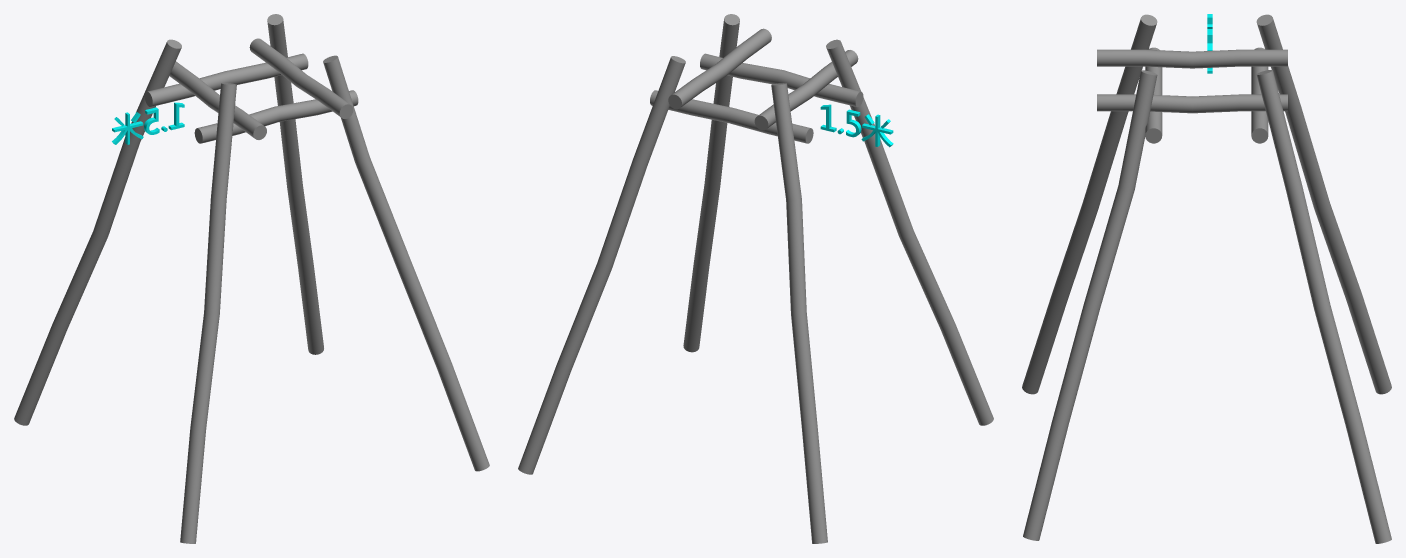
Rendered from mujiazi.FBX.
The picture shows the model from 3 angles, left to right: view 1: azimuth 30°, elevation 25°; view 2: azimuth 150°, elevation 25°; view 3: azimuth 270°, elevation 25°; orthographic projection. The views are drawn at different scales.
Parts seen in each view (by area): view 1: Cylinder786, Cylinder785, Cylinder787, Cylinder788, Cylinder784, Cylinder782, Cylinder781, Cylinder783, Text106; view 2: Cylinder787, Cylinder788, Cylinder786, Cylinder785, Cylinder781, Cylinder782, Cylinder784, Cylinder783, Text106; view 3: Cylinder788, Cylinder785, Cylinder787, Cylinder786, Cylinder783, Cylinder782, Cylinder784, Cylinder781.
Boxes of the visible parts, left/top/right/bottom form: Cylinder786: left=180, top=83, right=236, bottom=543; Cylinder785: left=323, top=55, right=489, bottom=471; Cylinder787: left=14, top=39, right=181, bottom=425; Cylinder788: left=267, top=14, right=323, bottom=354; Cylinder784: left=144, top=53, right=308, bottom=106; Cylinder782: left=249, top=38, right=353, bottom=118; Cylinder781: left=194, top=90, right=358, bottom=143; Cylinder783: left=169, top=61, right=266, bottom=139; Text106: left=112, top=102, right=184, bottom=144; Cylinder787: left=771, top=83, right=827, bottom=543; Cylinder788: left=518, top=56, right=685, bottom=474; Cylinder786: left=826, top=39, right=993, bottom=425; Cylinder785: left=683, top=14, right=739, bottom=352; Cylinder781: left=700, top=53, right=863, bottom=107; Cylinder782: left=668, top=28, right=771, bottom=109; Cylinder784: left=650, top=90, right=813, bottom=143; Cylinder783: left=754, top=50, right=858, bottom=130; Text106: left=820, top=104, right=893, bottom=147; Cylinder788: left=1256, top=70, right=1391, bottom=543; Cylinder785: left=1023, top=70, right=1157, bottom=540; Cylinder787: left=1256, top=14, right=1391, bottom=394; Cylinder786: left=1022, top=14, right=1157, bottom=394; Cylinder783: left=1097, top=49, right=1287, bottom=68; Cylinder782: left=1097, top=94, right=1287, bottom=113; Cylinder784: left=1251, top=47, right=1268, bottom=143; Cylinder781: left=1145, top=47, right=1162, bottom=143.
Size of what is drawn, in the model's own units: 34.96 by 43.27 by 34.22.
